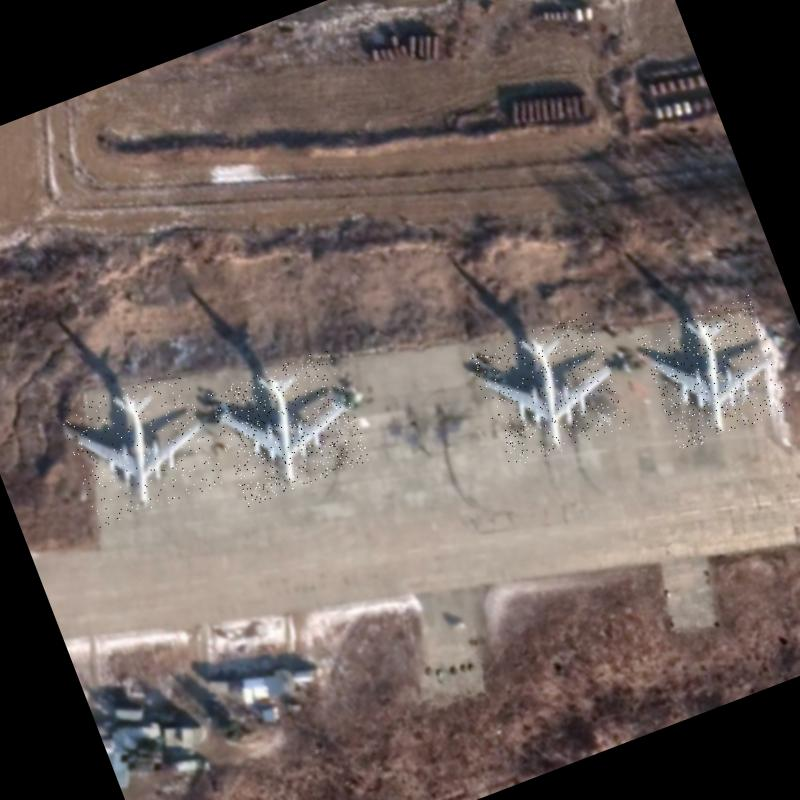A17: (56, 365, 226, 530), (204, 346, 372, 507), (468, 308, 632, 470), (636, 294, 792, 452)
